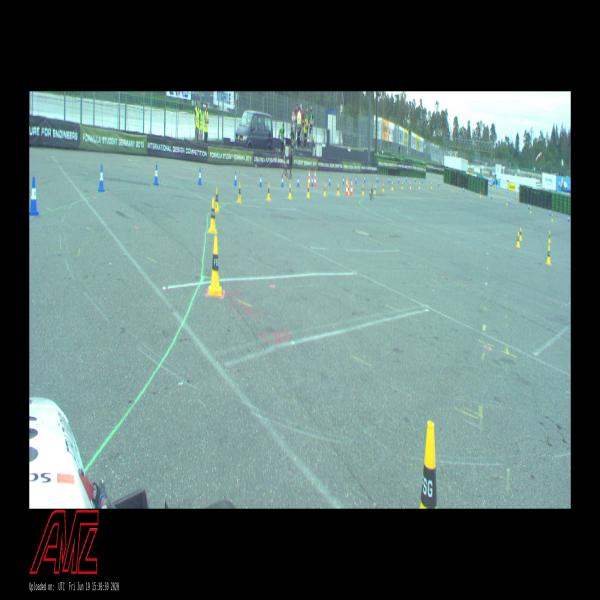blue_cone: (29, 176, 39, 217), (98, 164, 105, 192), (154, 163, 158, 184), (198, 168, 202, 184), (234, 171, 237, 185), (281, 174, 284, 187), (259, 174, 262, 187), (297, 175, 299, 187), (329, 176, 331, 186), (311, 176, 313, 186), (355, 176, 357, 184), (364, 176, 366, 183), (388, 176, 390, 183), (568, 215, 570, 222), (343, 176, 344, 184), (398, 176, 399, 183), (377, 176, 378, 183), (415, 176, 416, 182), (406, 176, 407, 182)
large_orange_cone: (345, 177, 348, 195), (350, 179, 353, 195), (308, 169, 310, 186), (314, 170, 316, 186)
yellow_cone: (420, 421, 437, 508), (208, 236, 223, 297), (208, 198, 218, 233), (215, 187, 220, 213), (237, 182, 242, 203), (546, 245, 551, 264), (266, 183, 270, 201), (288, 183, 292, 199), (516, 232, 520, 247), (306, 184, 309, 198), (519, 228, 522, 240), (548, 231, 551, 242), (324, 183, 326, 196), (337, 184, 339, 196), (362, 184, 364, 195), (551, 214, 553, 221), (401, 182, 403, 189), (348, 184, 349, 195), (374, 184, 375, 194), (383, 183, 384, 191), (392, 182, 393, 190), (530, 206, 531, 213), (410, 182, 411, 189), (419, 182, 420, 188), (431, 182, 432, 188)
